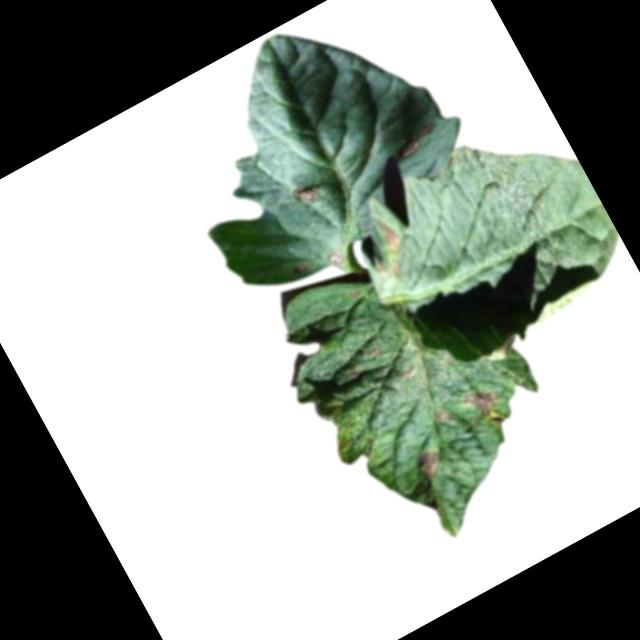Early_blight: (357, 216, 419, 286), (462, 378, 509, 425), (413, 446, 446, 481), (288, 176, 323, 208), (324, 247, 347, 270), (433, 405, 452, 425)
